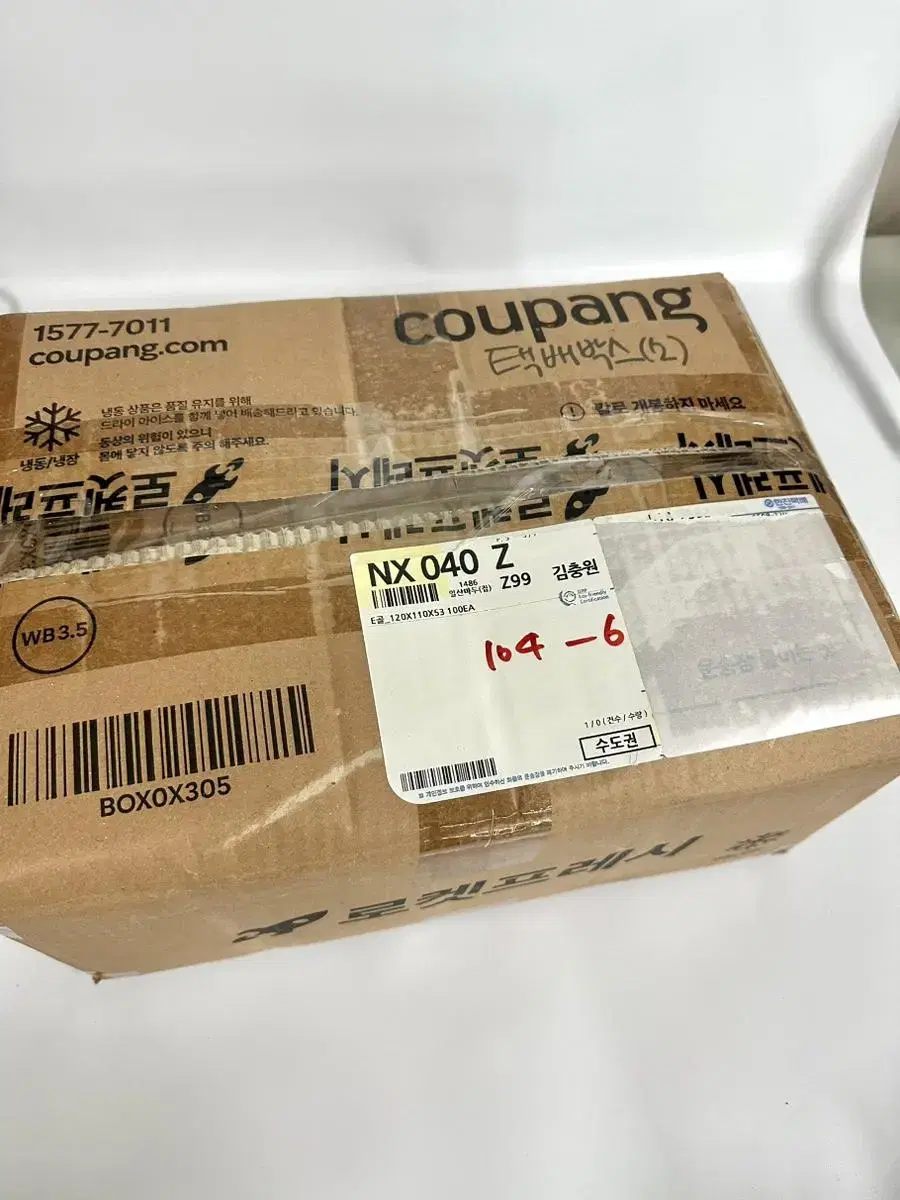undamaged: (0, 280, 897, 984)
